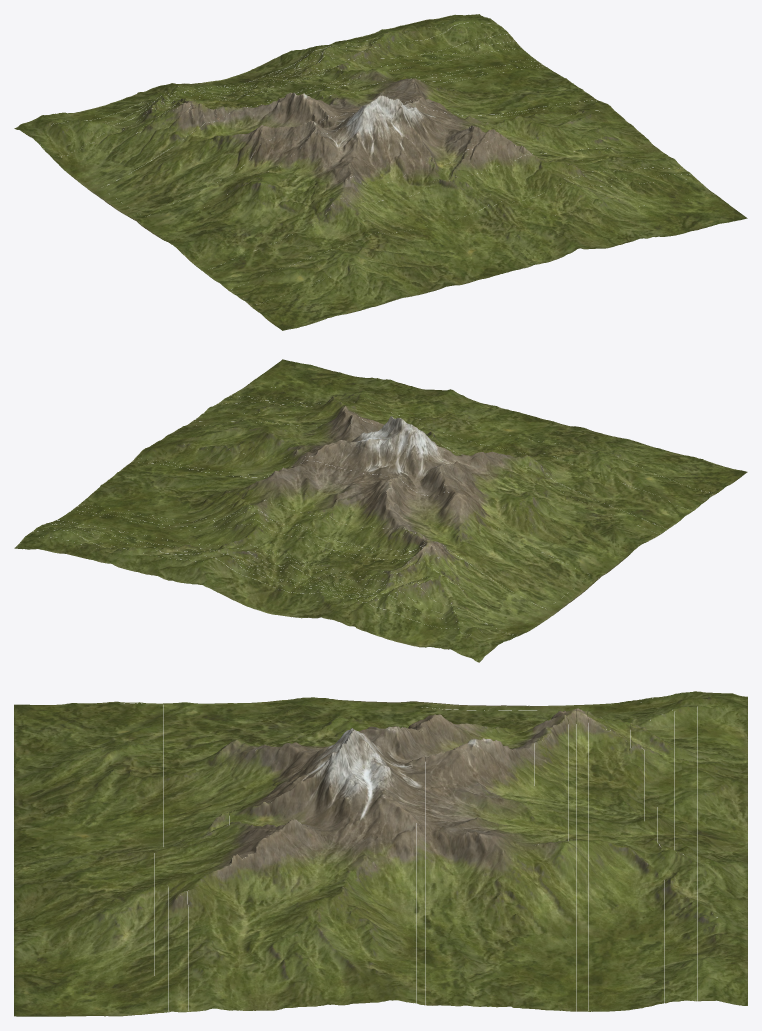
File: mountain-mobile.glb
The picture shows the model from 3 angles, top to bottom: view 1: azimuth 30°, elevation 25°; view 2: azimuth 150°, elevation 25°; view 3: azimuth 270°, elevation 25°; orthographic projection. The views are drawn at different scales.
Parts seen in each view (by area): view 1: Object_3, Object_2, Object_4, Object_5, Object_6; view 2: Object_5, Object_4, Object_2, Object_3, Object_6; view 3: Object_5, Object_2, Object_3, Object_4, Object_6.
Part boxes in pixels (left/top/right/bottom): Object_3: left=196, top=132, right=747, bottom=330; Object_2: left=14, top=14, right=668, bottom=271; Object_4: left=39, top=34, right=714, bottom=305; Object_5: left=101, top=48, right=599, bottom=216; Object_6: left=51, top=16, right=520, bottom=157; Object_5: left=57, top=456, right=589, bottom=608; Object_4: left=45, top=383, right=714, bottom=641; Object_2: left=14, top=406, right=668, bottom=662; Object_3: left=188, top=359, right=747, bottom=533; Object_6: left=16, top=520, right=512, bottom=637; Object_5: left=414, top=707, right=646, bottom=1011; Object_2: left=226, top=691, right=747, bottom=1010; Object_3: left=14, top=701, right=272, bottom=1016; Object_4: left=101, top=693, right=681, bottom=1016; Object_6: left=633, top=699, right=741, bottom=1009.
Bounding box in the file's own units: 1 × 0.1876 × 0.9999.
Materials: 1 (1 with a texture image).
